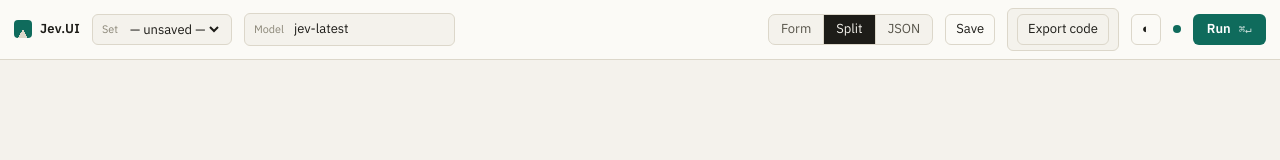
TopBar › shows the resolved model after a run whose result model differs from the alias
Step 1. Click the button "Run ⌘↵" → (1229, 29), box [1193, 14, 1266, 45]
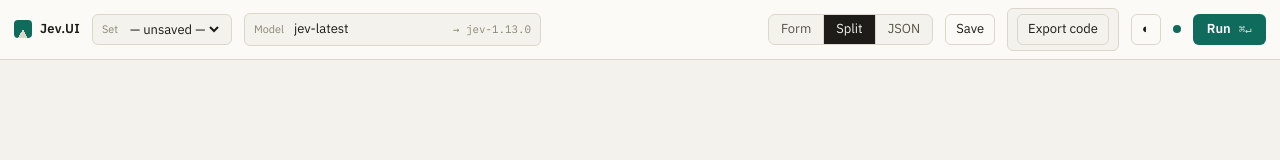
expect the text "→ jev-1.13.0" is shown: met, box [453, 22, 531, 37]
